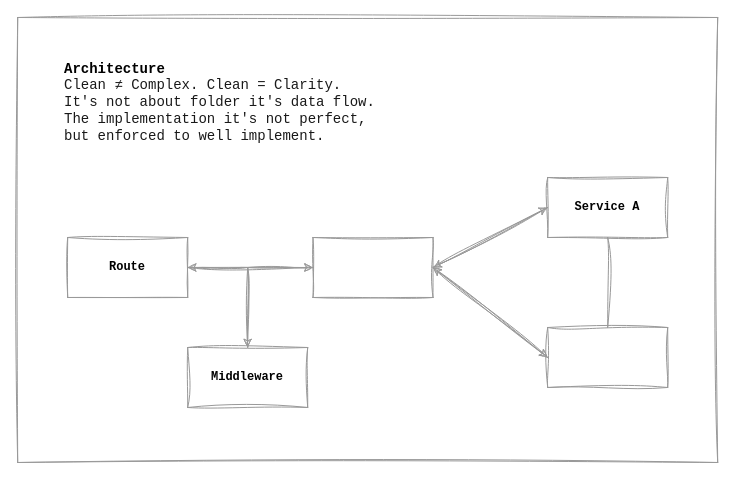
Some shapes in this 735 by 480 pixel diagram are drawn without their labels. The centre of each missing label's shape, as x and y in pixels:
"Controller" belongs at (372,267).
"Service B" belongs at (607,357).
